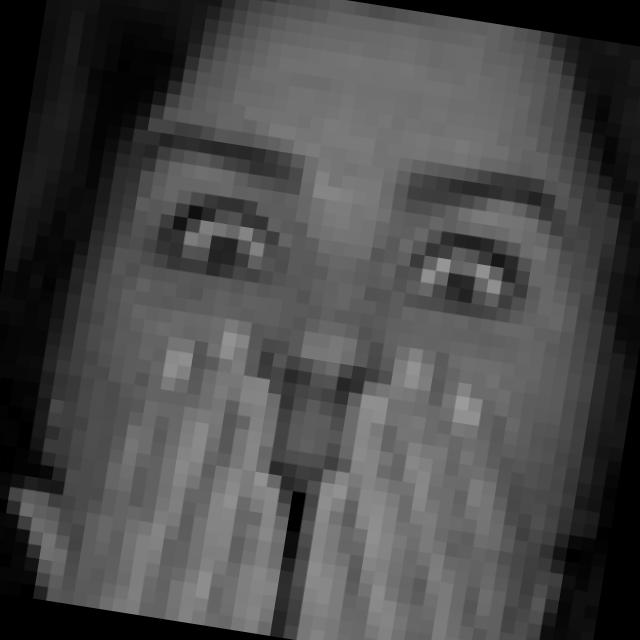fear: (64, 112, 578, 627)
